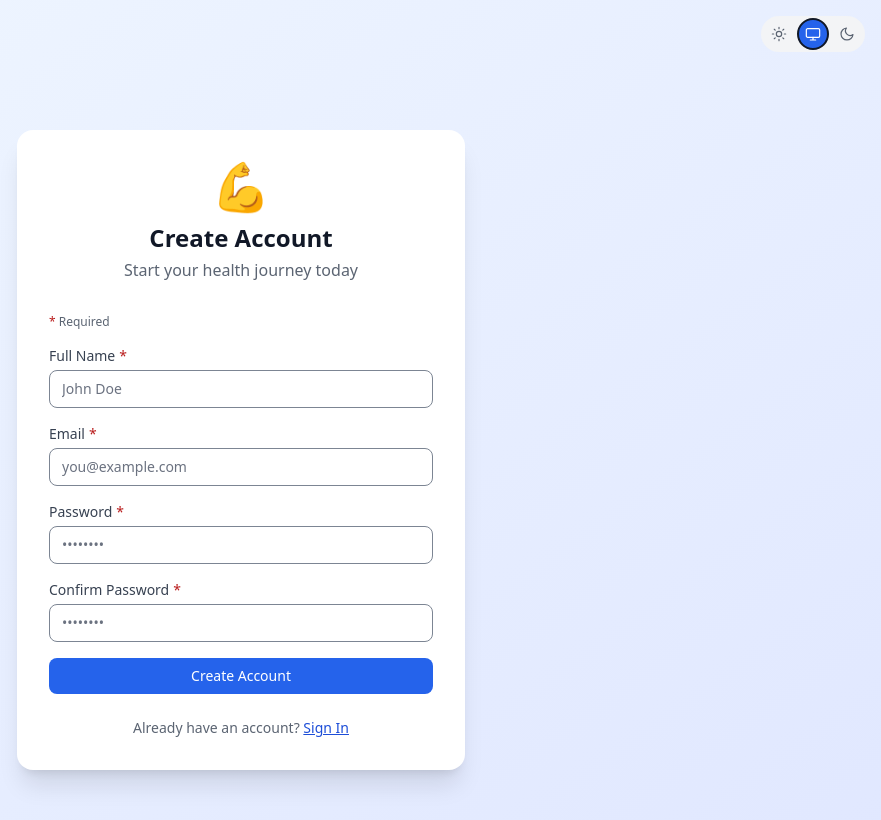
Test: RegisterPage › GivenAnEmptyEmail_WhenTheFormIsSubmitted_ThenItIsRefusedWithoutCallingTheApi
Type "Dana Walker" into the field labelled "Full Name".
click(241, 389); type("Dana Walker")  # box [49,370,433,408]
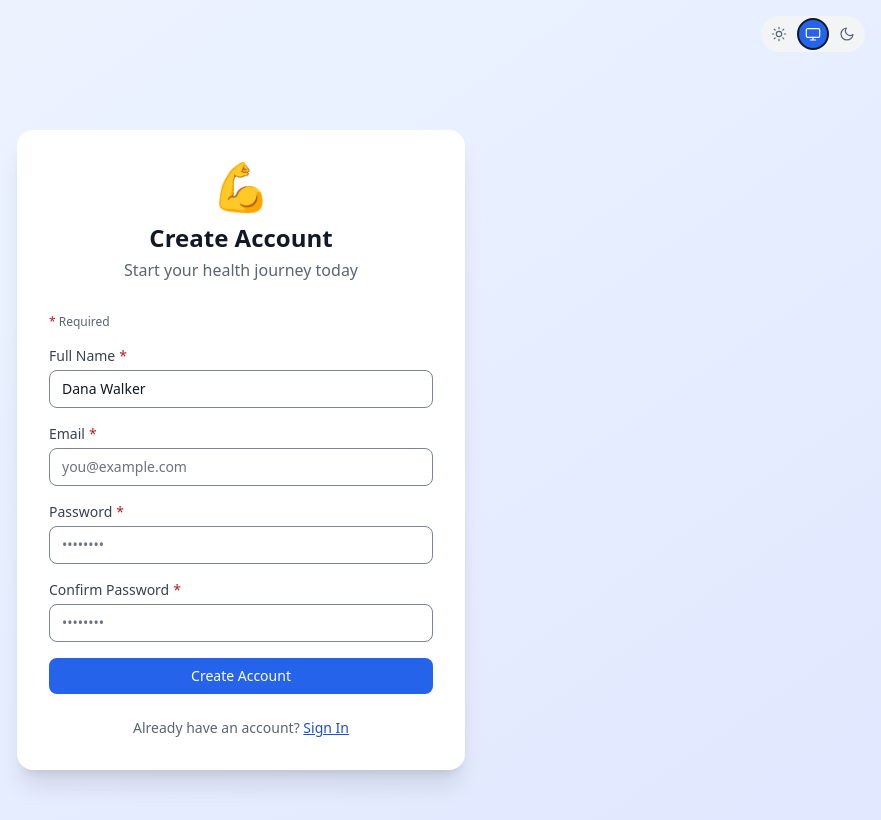
Type "eight-ch" into the password field labelled "Password".
click(241, 545); type("eight-ch")  # box [49,526,433,564]
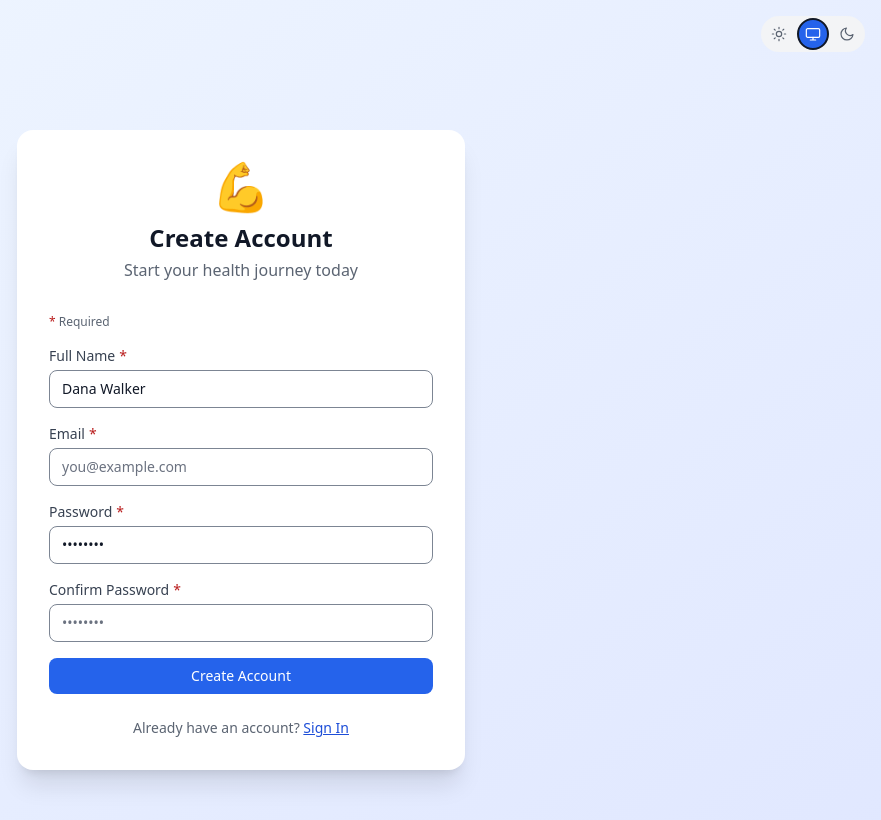
Type "eight-ch" into the password field labelled "Confirm Password".
click(241, 623); type("eight-ch")  # box [49,604,433,642]
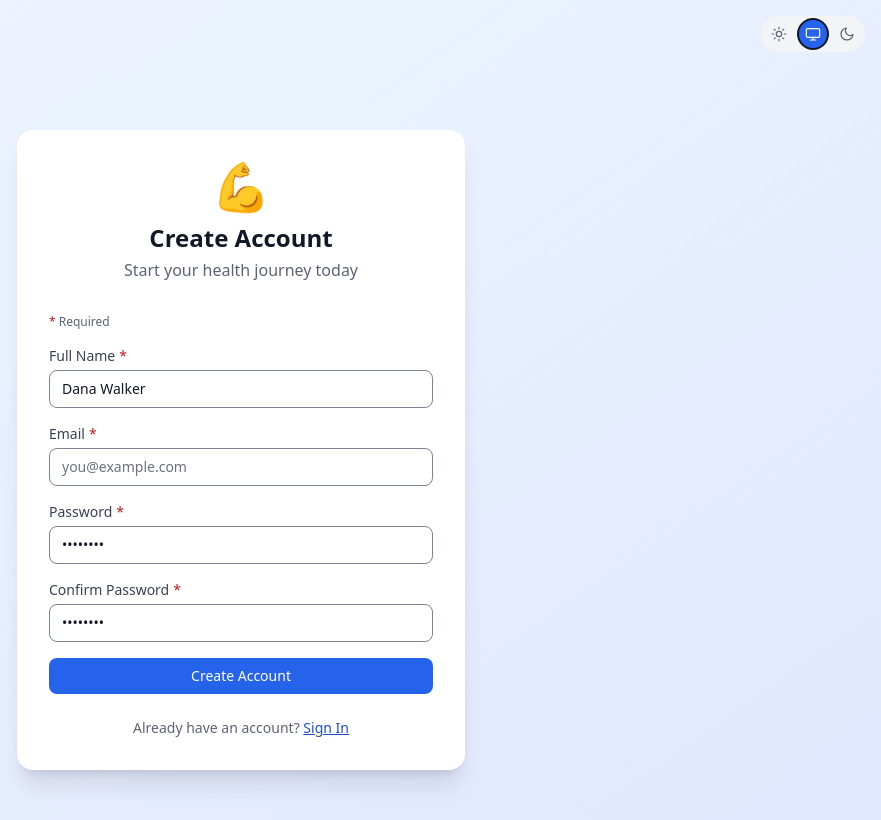
Submit the form from the button "Create Account", box [49,658,433,694]
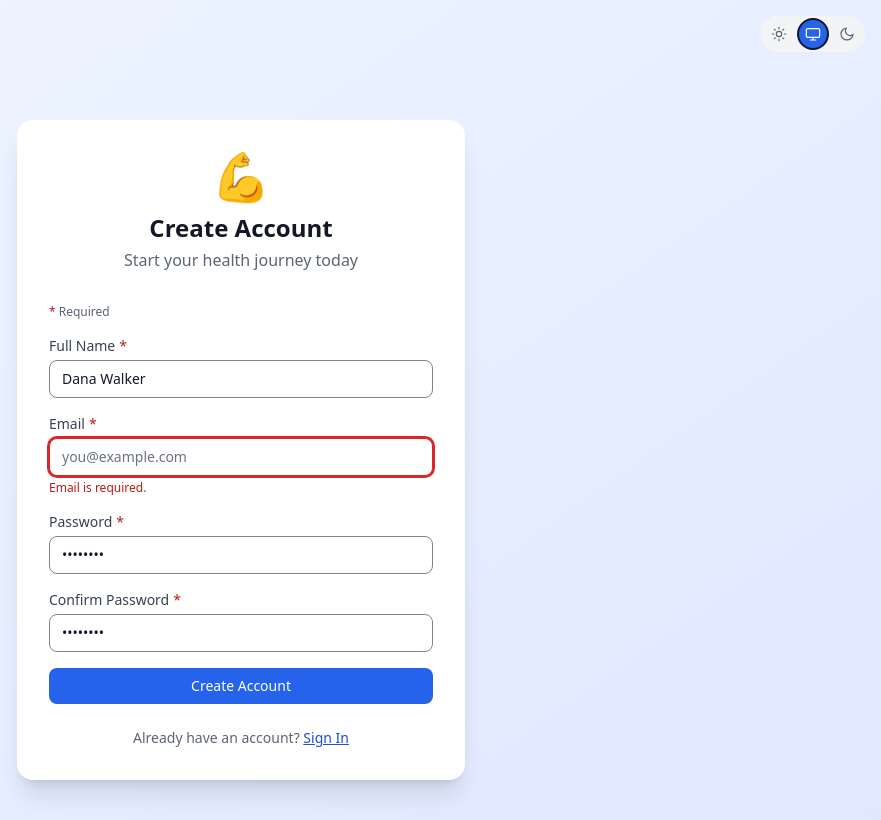
Expected: the text "Email is required." is shown, [49,479,146,496]
